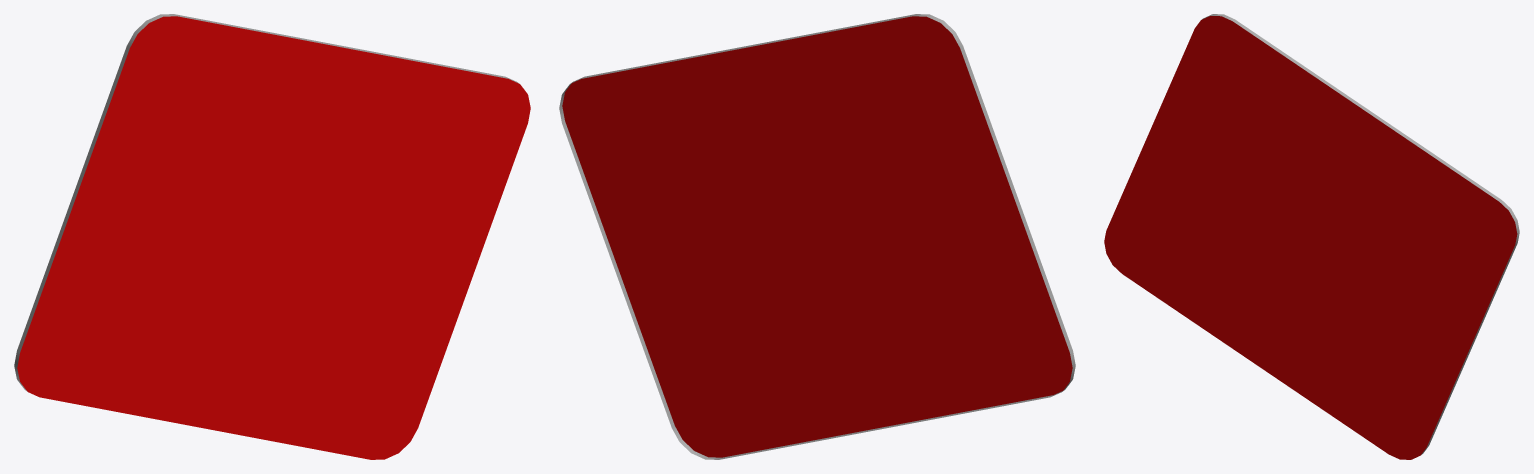
The model's file is FeatureAsset2.fbx.
3 views of the same model, side by side, from view 1: azimuth 30°, elevation 25°; view 2: azimuth 150°, elevation 25°; view 3: azimuth 330°, elevation 25° (orthographic). The views are drawn at different scales.
Visible parts, largest first — view 1: DontEnterSign; view 2: DontEnterSign; view 3: DontEnterSign.
Part boxes in pixels (box(x1,y1,x2,y2)): DontEnterSign: box(14, 14, 530, 459); DontEnterSign: box(559, 14, 1075, 459); DontEnterSign: box(1104, 14, 1519, 459).
Bounding box in the file's own units: 52.41 × 48.46 × 0.5484.
